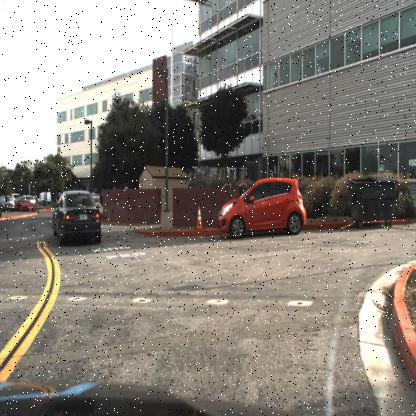car: (216, 176, 306, 240), (50, 188, 103, 247), (15, 195, 34, 216)
